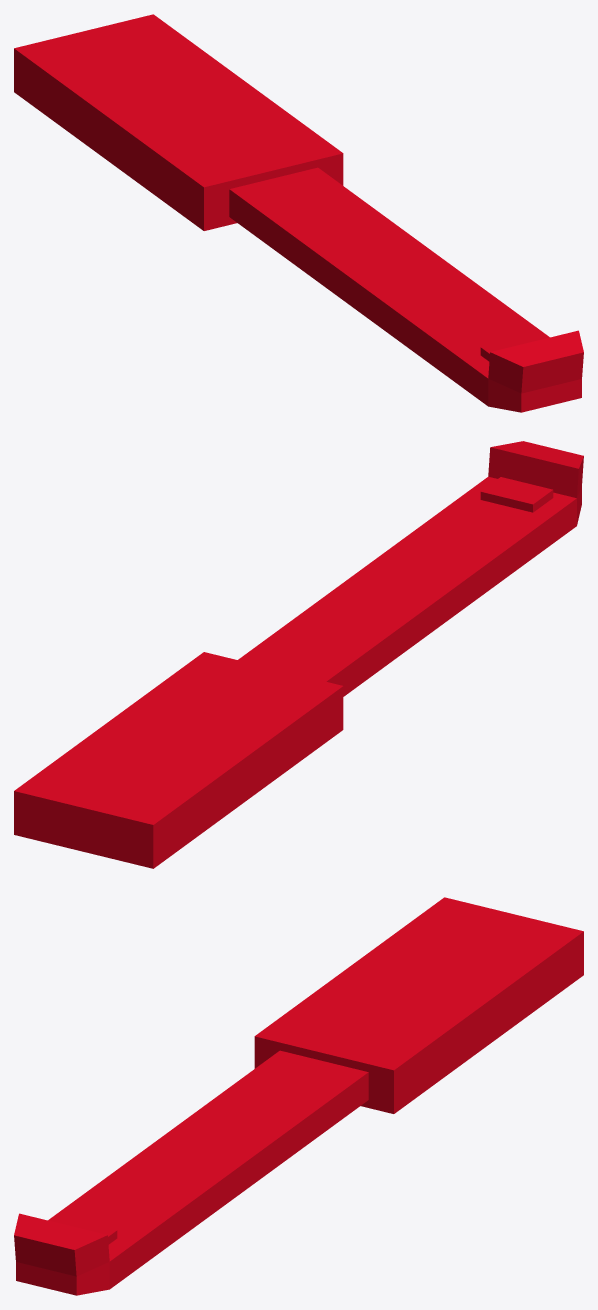
Rendered from lasgun2.gltf.
3 renders of one model, top to bottom at view 1: azimuth 30°, elevation 25°; view 2: azimuth 150°, elevation 25°; view 3: azimuth 330°, elevation 25°, orthographic.
Visible parts, largest first — view 1: Cube; view 2: Cube; view 3: Cube.
Part boxes in pixels (x1,y1,x2,y2): Cube: [14, 14, 583, 412]; Cube: [14, 441, 583, 868]; Cube: [14, 897, 583, 1295].
Size of the model in its own units: 0.02 by 0.00875 by 0.1167.
